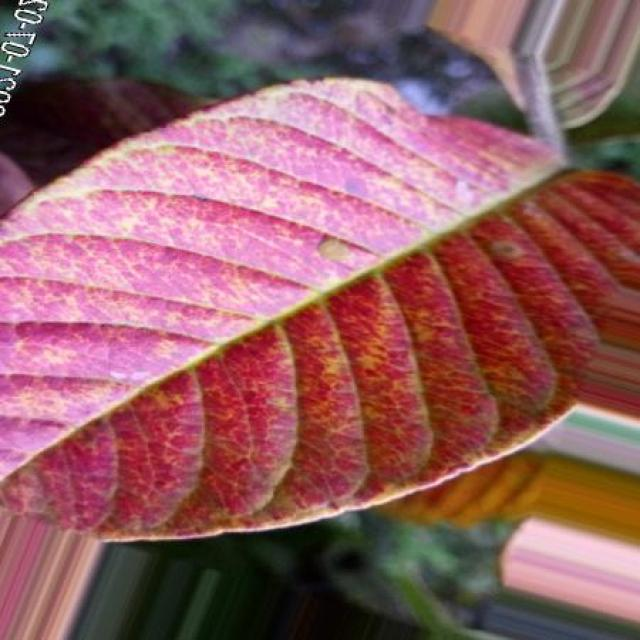Red Rust: (0, 79, 640, 540)
